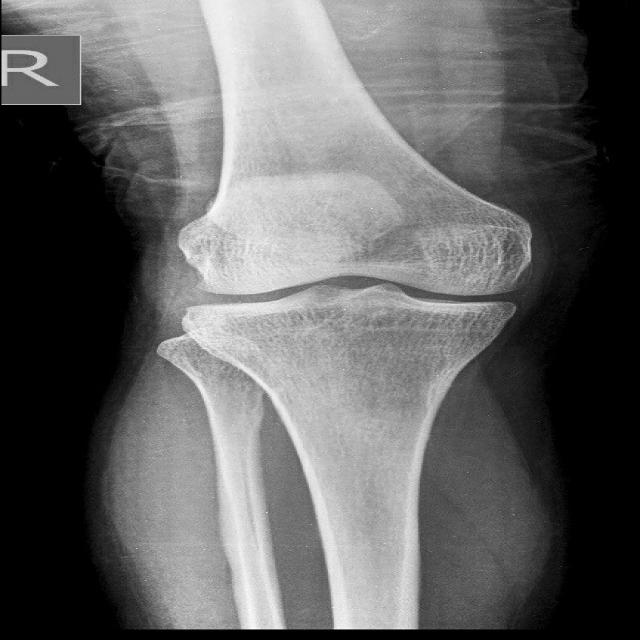osteo: (175, 211, 541, 347)
